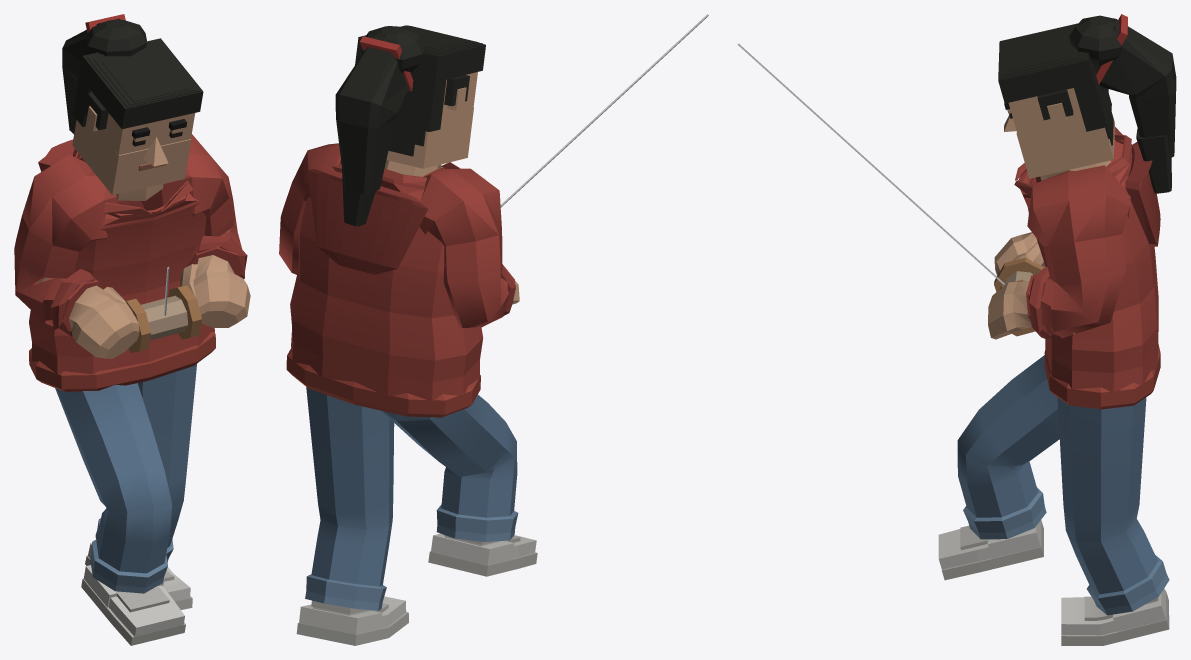
The model's file is kite-kid-0a7d70__walk3.glb.
The picture shows the model from 3 angles, left to right: view 1: azimuth 30°, elevation 25°; view 2: azimuth 150°, elevation 25°; view 3: azimuth 270°, elevation 25°; orthographic projection. The views are drawn at different scales.
Parts seen in each view (by area): view 1: kite-kid-0a7d70__walk3; view 2: kite-kid-0a7d70__walk3; view 3: kite-kid-0a7d70__walk3.
Part boxes in pixels (x1,y1,x2,y2): kite-kid-0a7d70__walk3: (14, 14, 250, 645); kite-kid-0a7d70__walk3: (279, 14, 708, 645); kite-kid-0a7d70__walk3: (737, 14, 1176, 645).
Size of the model in its own units: 0.5219 by 1.22 by 0.811.
